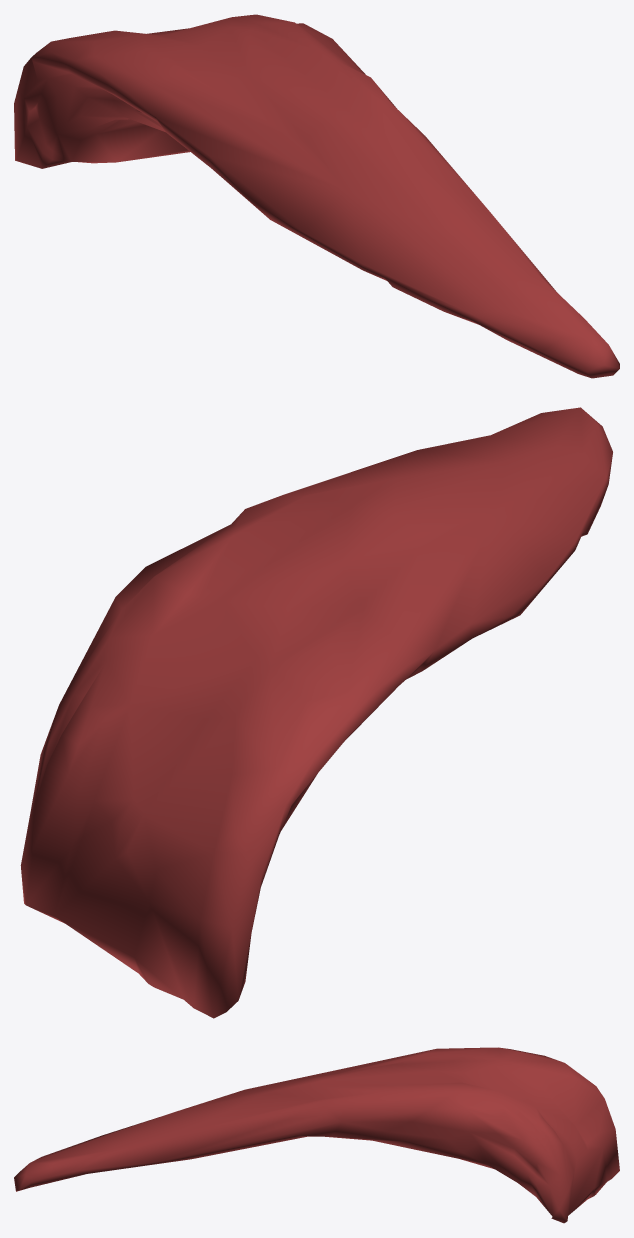
File: geniohyoid-muscle-r.glb
The picture shows the model from 3 angles, top to bottom: view 1: azimuth 30°, elevation 25°; view 2: azimuth 150°, elevation 25°; view 3: azimuth 270°, elevation 25°; orthographic projection. The views are drawn at different scales.
Parts seen in each view (by area): view 1: Geniohyoid muscle.r; view 2: Geniohyoid muscle.r; view 3: Geniohyoid muscle.r.
Boxes of the visible parts, left/top/right/bottom form: Geniohyoid muscle.r: left=14, top=14, right=619, bottom=378; Geniohyoid muscle.r: left=20, top=407, right=612, bottom=1018; Geniohyoid muscle.r: left=14, top=1047, right=619, bottom=1223.
Bounding box in the file's own units: 0.0112 × 0.0101 × 0.0401.
